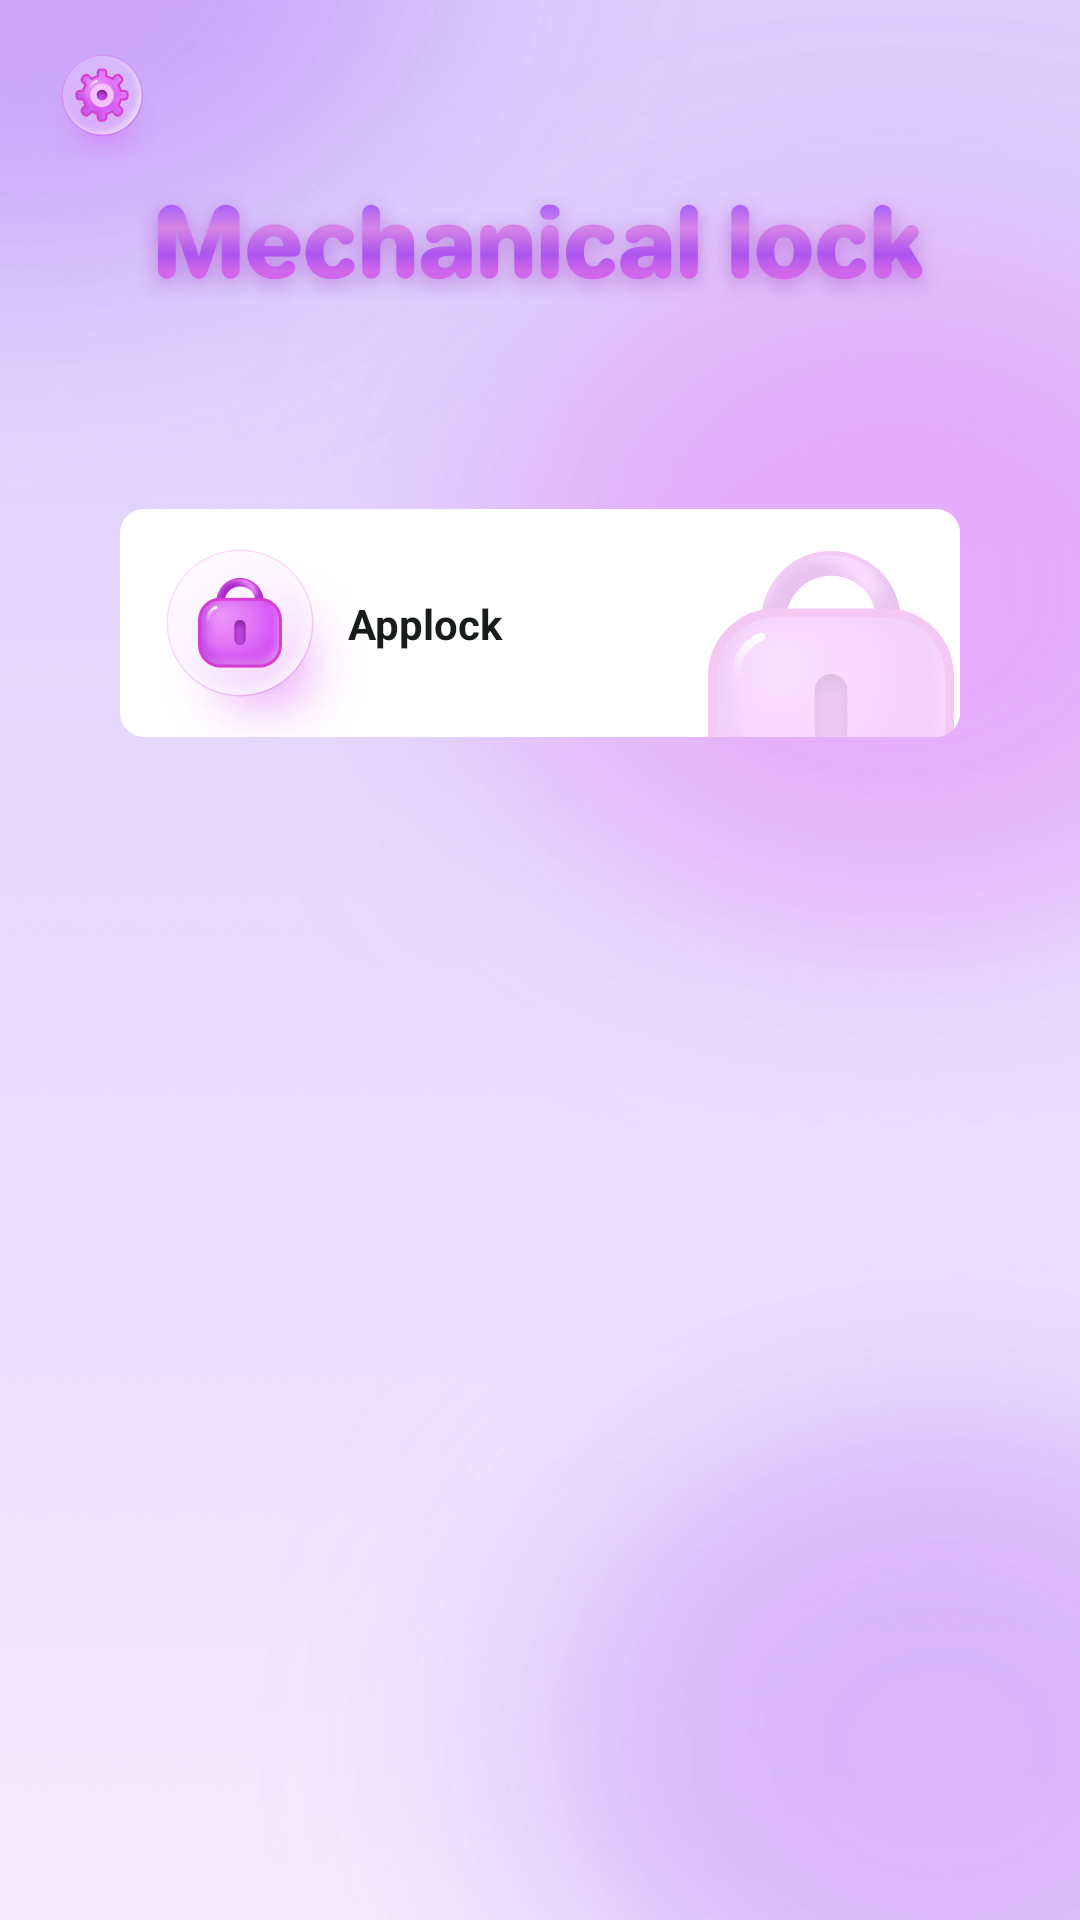

Screen size 1080×1920. Icon name, then its box in pixels as bbox=(x1, y1, x2, y2):
set: bbox=(61, 54, 143, 149)
